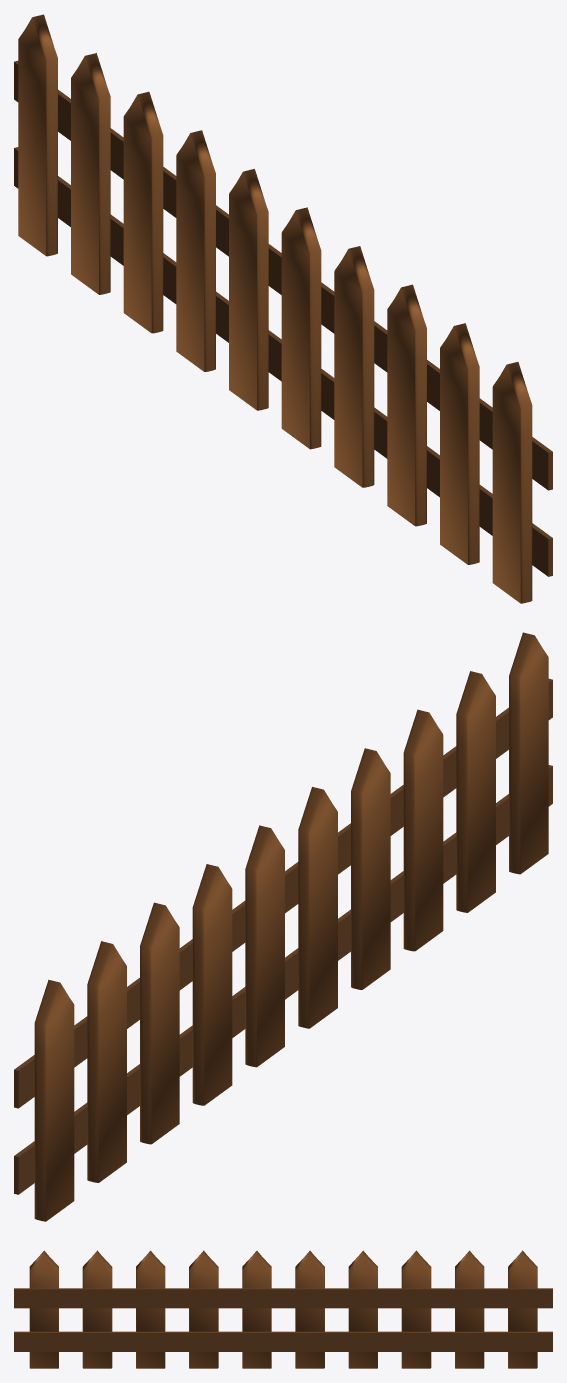
File: reja.fbx
3 renders of one model, top to bottom at view 1: azimuth 30°, elevation 25°; view 2: azimuth 150°, elevation 25°; view 3: azimuth 270°, elevation 25°, orthographic. The views are drawn at different scales.
Visible parts, largest first — view 1: Plano, Plano.002, Plano.001; view 2: Plano, Plano.002, Plano.001; view 3: Plano, Plano.001, Plano.002.
Boxes of the visible parts, x1,y1,x2,y2 form: Plano: (18, 14, 532, 603); Plano.002: (14, 147, 552, 576); Plano.001: (14, 60, 552, 490); Plano: (34, 632, 548, 1221); Plano.002: (14, 765, 552, 1194); Plano.001: (14, 678, 552, 1108); Plano: (29, 1250, 537, 1368); Plano.001: (14, 1288, 552, 1308); Plano.002: (14, 1331, 552, 1351).
Bounding box in the file's own units: 18 × 240 × 1016.
